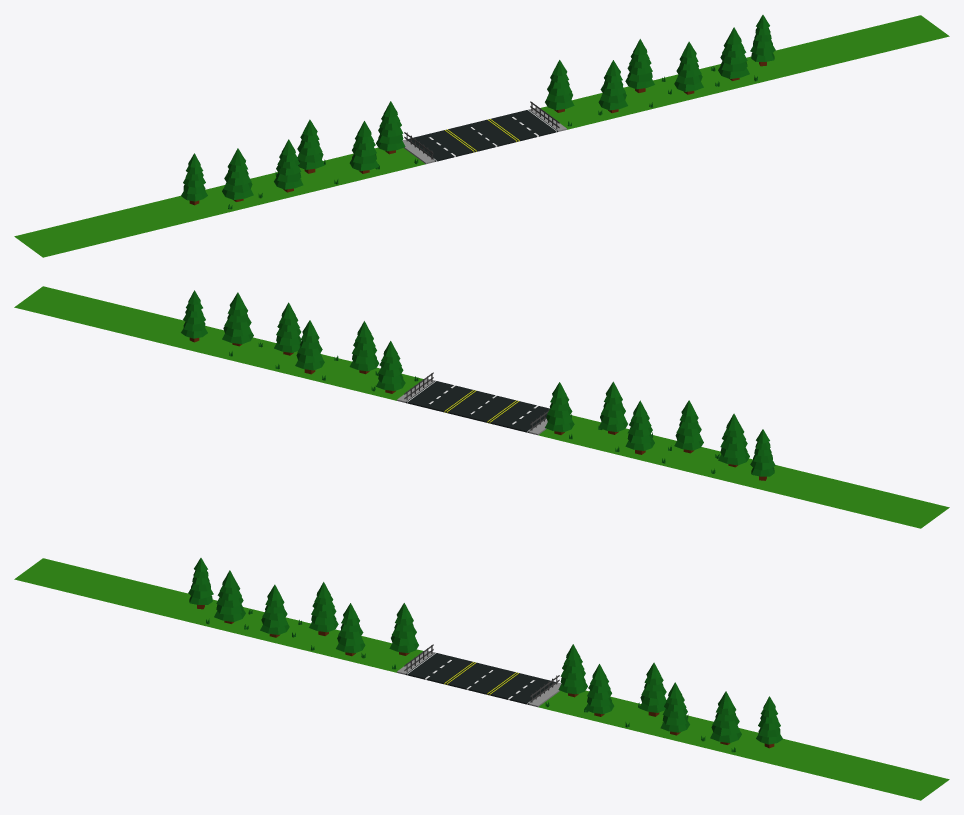
The model's file is Weg_Normaal.FBX.
The picture shows the model from 3 angles, top to bottom: view 1: azimuth 30°, elevation 25°; view 2: azimuth 150°, elevation 25°; view 3: azimuth 330°, elevation 25°; orthographic projection.
Parts seen in each view (by area): view 1: Grond2, Bomen2, Road_zonderlamp1; view 2: Grond2, Bomen2, Road_zonderlamp1; view 3: Grond2, Bomen2, Road_zonderlamp1.
Part boxes in pixels (bbox=[...]): Grond2: bbox=[14, 15, 949, 257]; Bomen2: bbox=[181, 15, 775, 205]; Road_zonderlamp1: bbox=[402, 101, 566, 164]; Grond2: bbox=[14, 286, 949, 528]; Bomen2: bbox=[181, 290, 775, 480]; Road_zonderlamp1: bbox=[397, 372, 549, 435]; Grond2: bbox=[14, 558, 949, 800]; Bomen2: bbox=[188, 558, 782, 748]; Road_zonderlamp1: bbox=[397, 644, 561, 707].
Bounding box in the file's own units: 144000 × 8000 × 8094.
